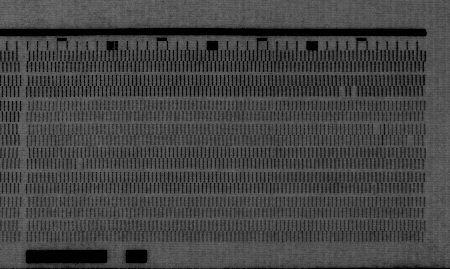Broken hole: (337, 86, 360, 98), (370, 123, 383, 137), (405, 134, 417, 147), (74, 159, 85, 170)
Oblique printing: (368, 182, 380, 197)
